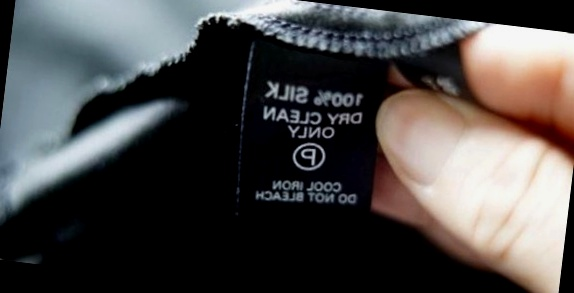dry_clean_any_solvent_except_trichloroethylene: (289, 139, 327, 172)
